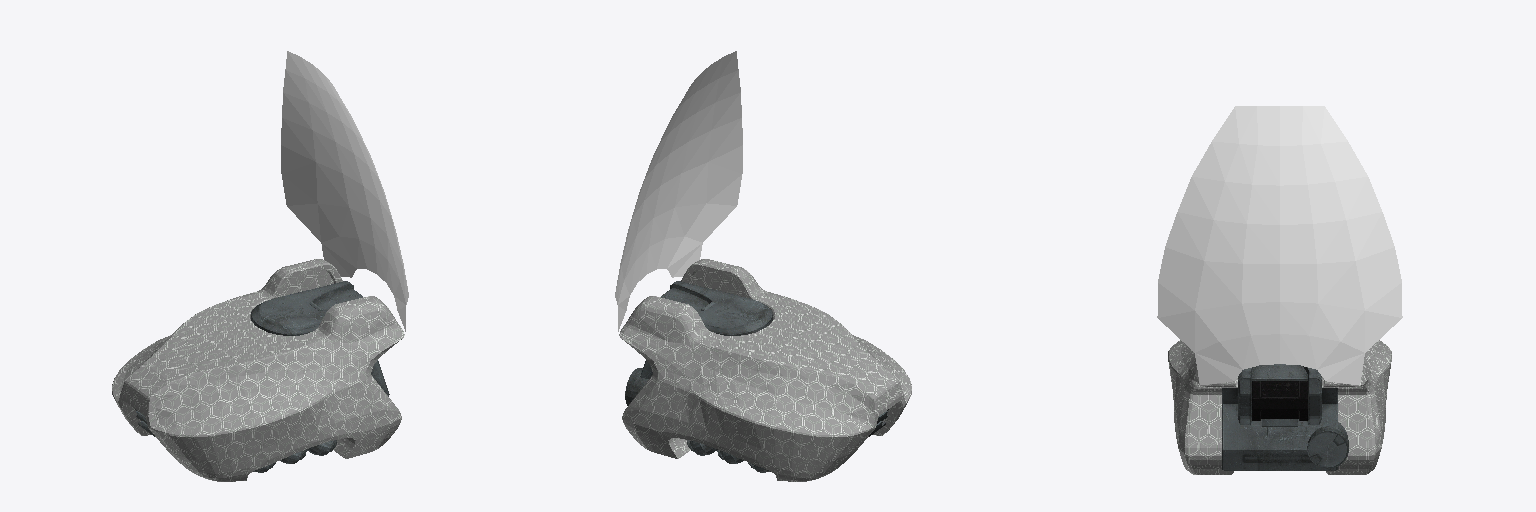
The picture shows the model from 3 angles: view 1: azimuth 30°, elevation 25°; view 2: azimuth 150°, elevation 25°; view 3: azimuth 270°, elevation 25°; orthographic projection.
Parts seen in each view (by area): view 1: unsc_scope_loadout_covenant.013; view 2: unsc_scope_loadout_covenant.013; view 3: unsc_scope_loadout_covenant.013.
Boxes of the visible parts, <box> form: unsc_scope_loadout_covenant.013: <box>112,51,408,481</box>; unsc_scope_loadout_covenant.013: <box>615,51,911,481</box>; unsc_scope_loadout_covenant.013: <box>1157,106,1402,474</box>.
Bounding box in the file's own units: 0.0492 × 0.0686 × 0.0428.
Materials: 2 (1 with a texture image).